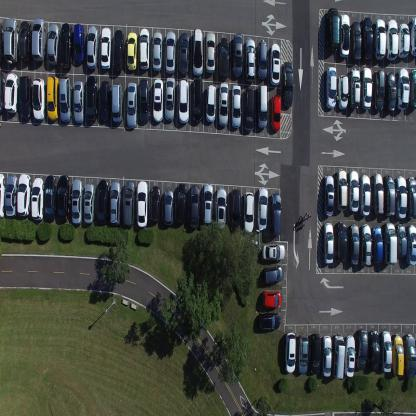car: (31, 16, 46, 62), (16, 173, 32, 216), (18, 74, 33, 119), (4, 17, 18, 65), (59, 22, 73, 69), (326, 6, 340, 52), (59, 75, 72, 123), (57, 173, 70, 221), (383, 221, 397, 265), (4, 72, 19, 113), (46, 74, 59, 121), (46, 23, 60, 66), (396, 67, 410, 110), (86, 24, 99, 70), (32, 76, 45, 122), (332, 334, 345, 380), (96, 178, 109, 224), (178, 76, 190, 124), (126, 81, 138, 129), (136, 180, 148, 228), (123, 180, 135, 228), (112, 29, 125, 73), (18, 19, 31, 63), (31, 177, 44, 221), (371, 172, 384, 216), (256, 83, 268, 130), (44, 174, 56, 221), (214, 187, 227, 230), (296, 332, 309, 375), (5, 174, 18, 217), (372, 69, 385, 112), (164, 75, 176, 121), (243, 86, 255, 132), (404, 333, 416, 379), (71, 178, 83, 224), (373, 18, 386, 60), (335, 168, 348, 210), (72, 79, 84, 124), (284, 330, 296, 375), (109, 181, 121, 226), (394, 174, 406, 219), (355, 329, 368, 370), (192, 28, 203, 76), (244, 38, 256, 82), (152, 78, 164, 122), (86, 74, 97, 122), (175, 182, 187, 226), (392, 334, 404, 378), (361, 16, 373, 60), (325, 65, 337, 109), (282, 61, 293, 108), (138, 27, 150, 70), (309, 332, 321, 375), (348, 67, 360, 110), (335, 221, 347, 264), (192, 77, 203, 123), (232, 32, 243, 78), (111, 82, 123, 124), (99, 80, 111, 122), (386, 18, 398, 60), (359, 174, 371, 216), (348, 224, 360, 266), (189, 184, 200, 229), (178, 31, 189, 76), (218, 82, 229, 127), (139, 78, 150, 123), (230, 187, 241, 232), (256, 40, 268, 81), (151, 31, 163, 72), (368, 331, 380, 372), (380, 330, 392, 371), (322, 175, 334, 216), (202, 182, 213, 226), (165, 30, 176, 74), (270, 42, 281, 86), (100, 26, 111, 70), (257, 186, 268, 230), (270, 192, 281, 236), (321, 334, 332, 378), (323, 221, 334, 265), (261, 242, 285, 262), (83, 182, 95, 222), (218, 37, 229, 80), (360, 223, 371, 266), (350, 21, 362, 60), (371, 225, 383, 264), (74, 22, 85, 64), (243, 191, 254, 233), (361, 67, 372, 109), (348, 170, 359, 212), (258, 310, 281, 330), (205, 83, 216, 124), (126, 31, 137, 72), (385, 70, 396, 111), (384, 175, 395, 216), (231, 83, 241, 128), (339, 13, 349, 58), (398, 22, 410, 59), (264, 264, 284, 286), (345, 334, 355, 378), (206, 31, 216, 74), (406, 176, 416, 219), (406, 223, 416, 266), (149, 185, 160, 223), (260, 290, 282, 309), (395, 224, 407, 258), (163, 189, 174, 226), (337, 74, 348, 110), (271, 93, 281, 131), (409, 69, 416, 110), (0, 172, 6, 219), (0, 70, 5, 113), (410, 16, 415, 58), (0, 22, 4, 66)
